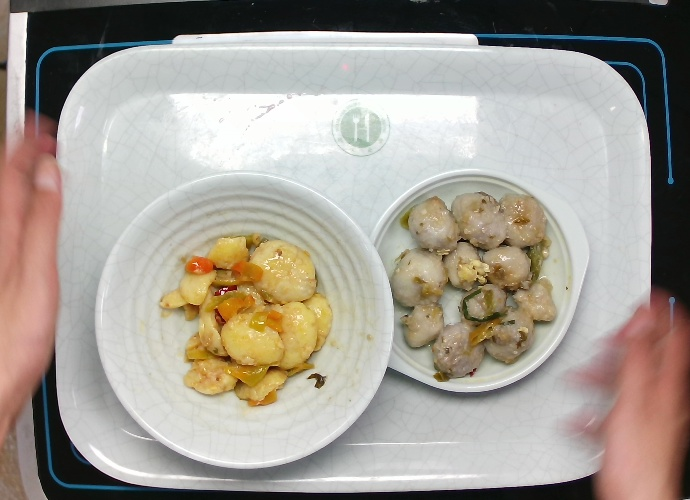JYsf-Shuang_Er_Pan: (364, 164, 594, 399)
JYsf-Xiao_Tang_Wan: (90, 165, 398, 475)
